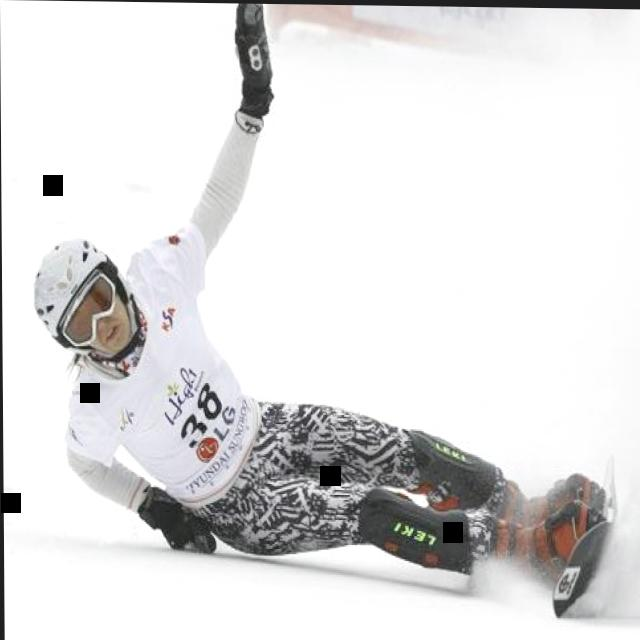Fall-Detected: (31, 0, 633, 567)
